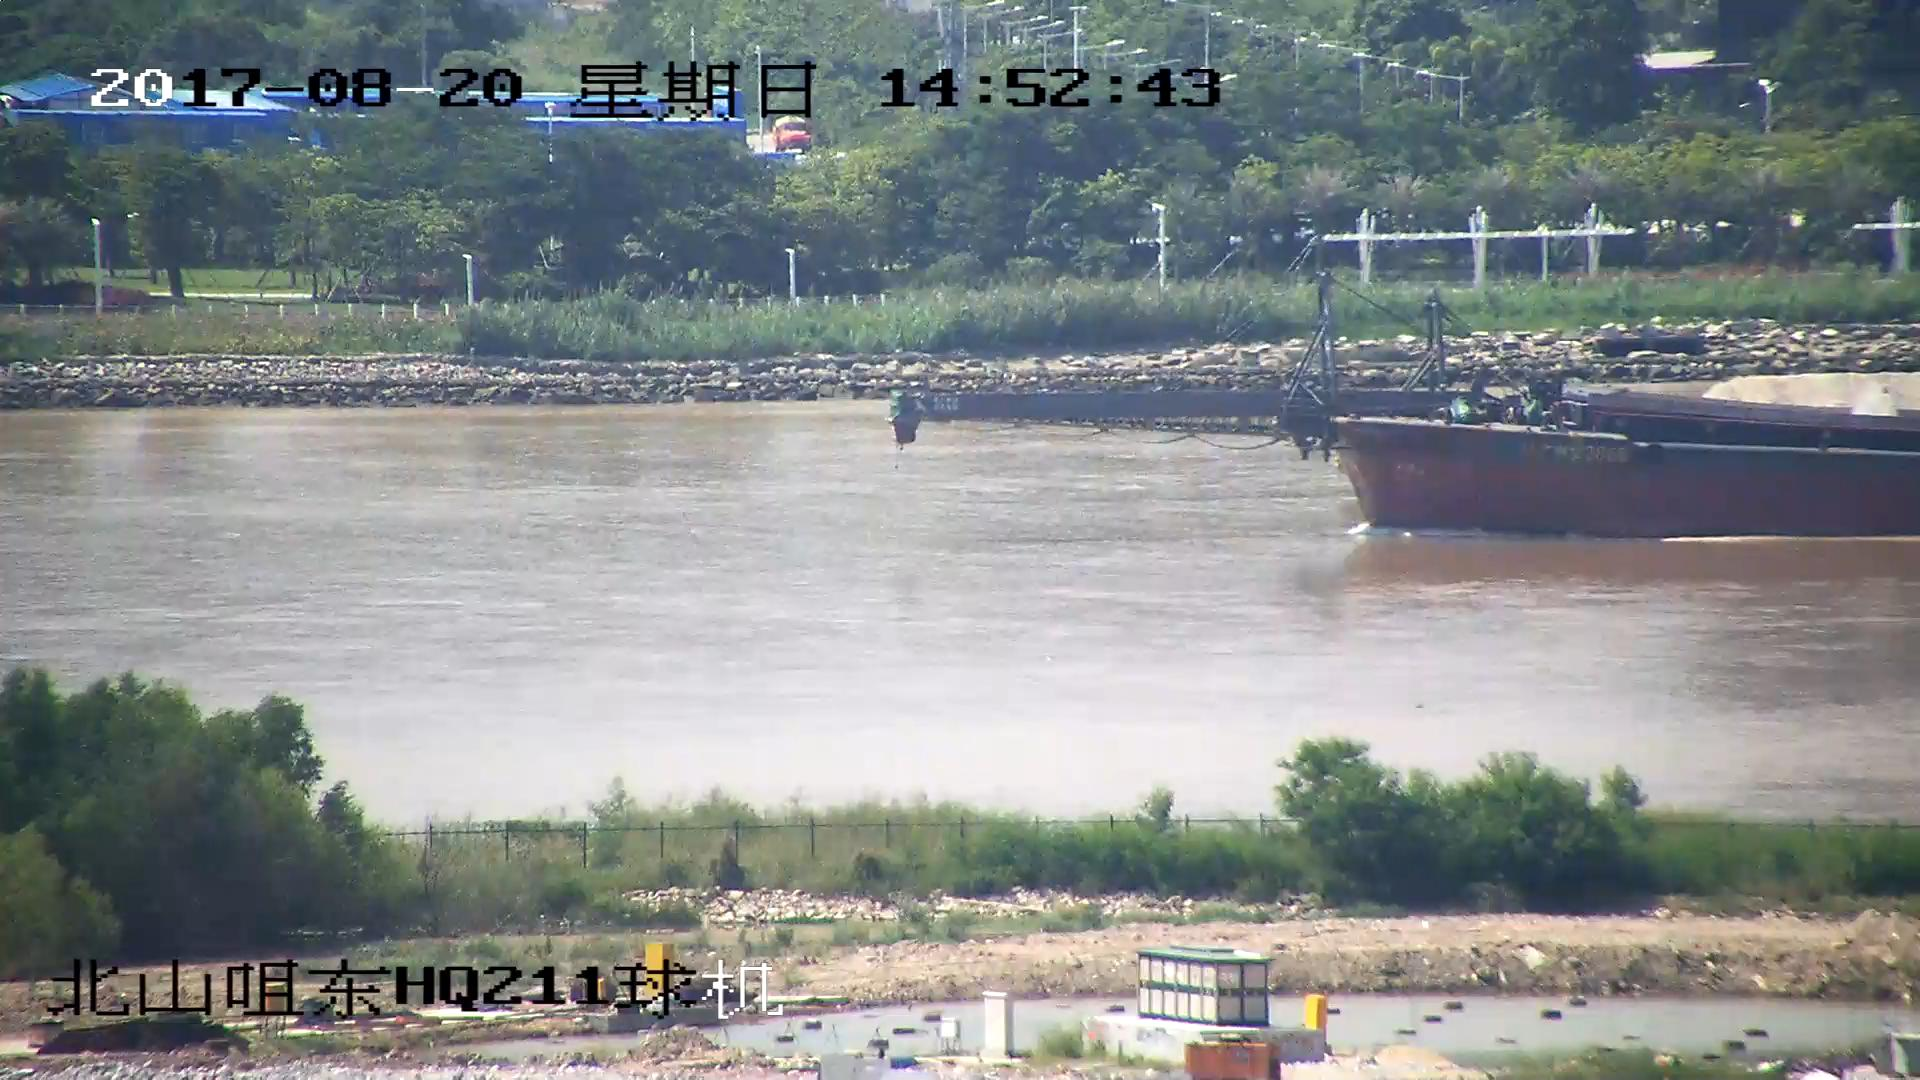bulk cargo carrier: (902, 278, 1920, 544)
ore carrier: (1036, 367, 1920, 468)
